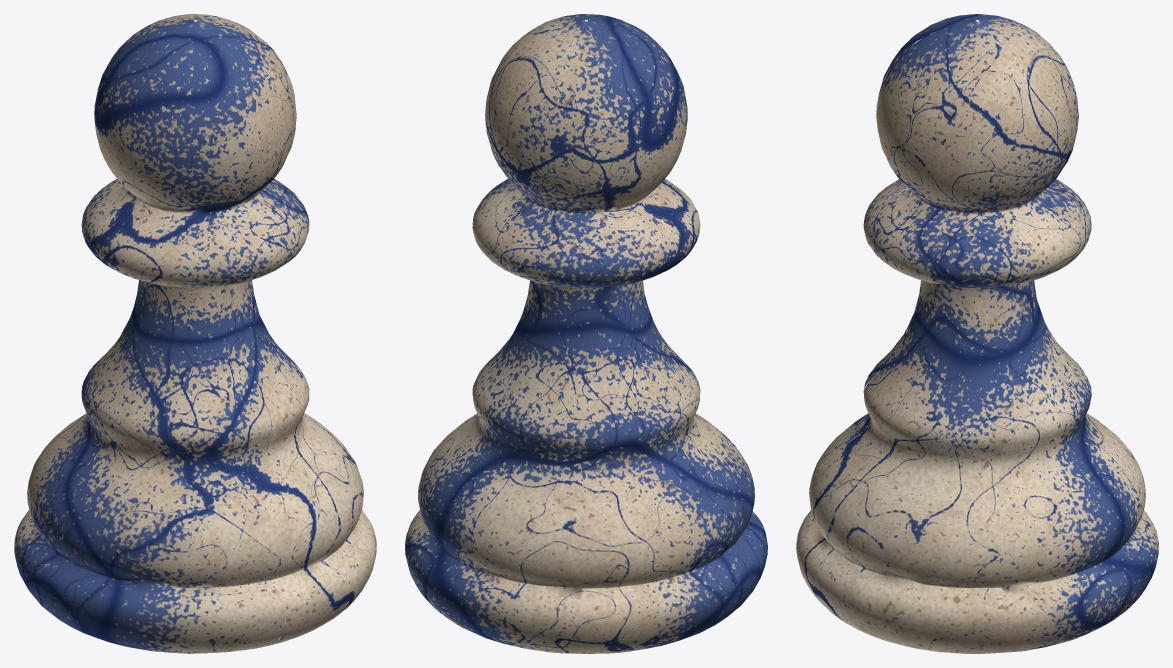
File: pawn-white.glb
3 renders of one model, left to right at view 1: azimuth 30°, elevation 25°; view 2: azimuth 150°, elevation 25°; view 3: azimuth 270°, elevation 25°, orthographic.
Visible parts, largest first — view 1: Cobalt Vein white pawn; view 2: Cobalt Vein white pawn; view 3: Cobalt Vein white pawn.
Part boxes in pixels (box(x1,y1,x2,y2)): Cobalt Vein white pawn: box(14, 14, 376, 653); Cobalt Vein white pawn: box(405, 14, 767, 653); Cobalt Vein white pawn: box(796, 14, 1158, 653).
Bounding box in the file's own units: 0.4911 × 0.8592 × 0.4918.
1 material, 1 textured.
